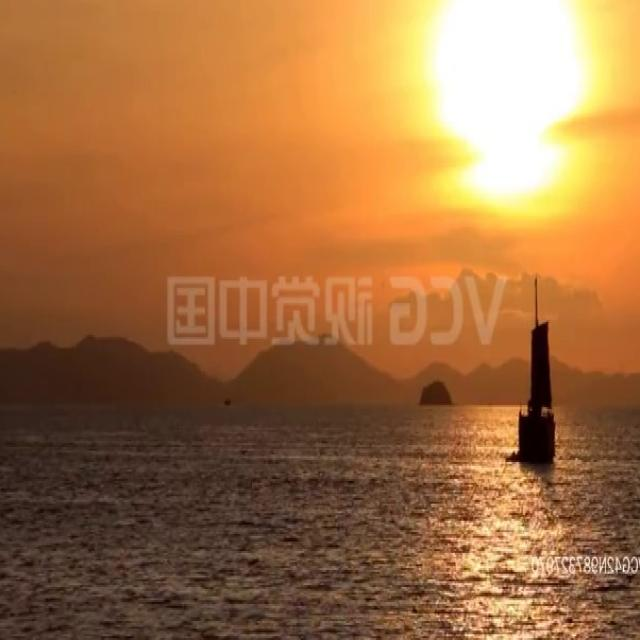sailboat: (512, 265, 564, 462)
